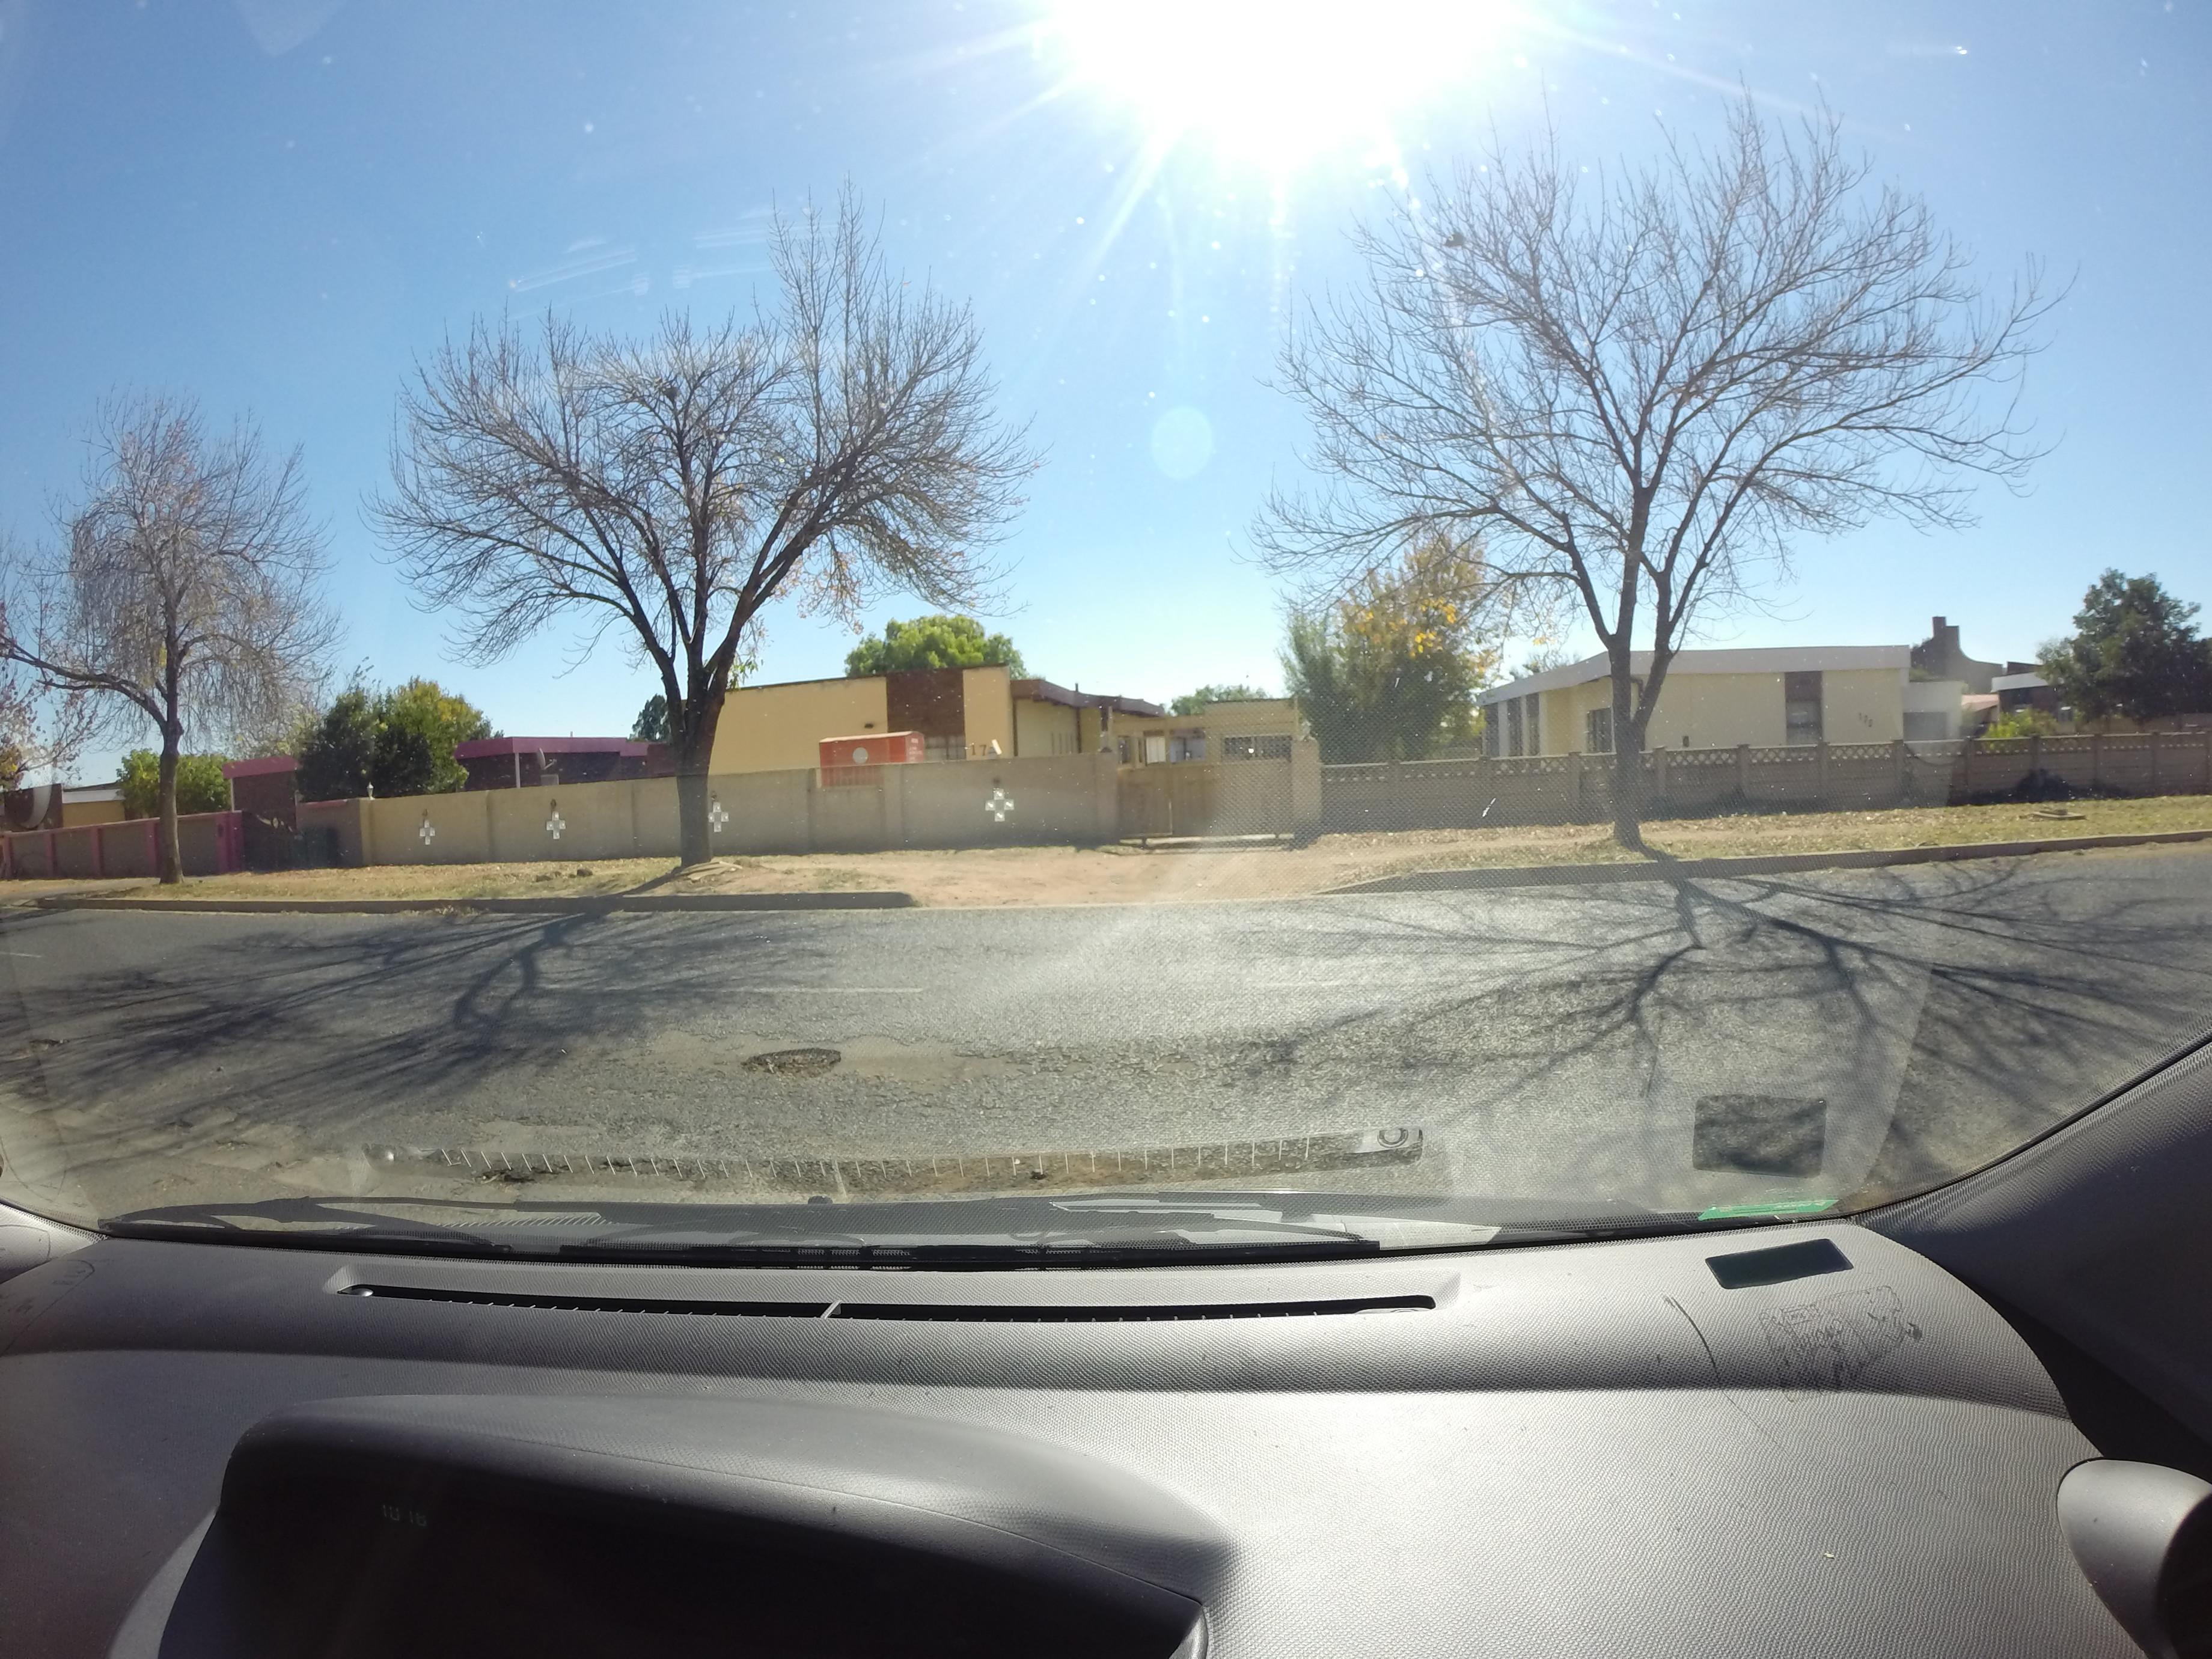pothole: (679, 985, 895, 1155)
